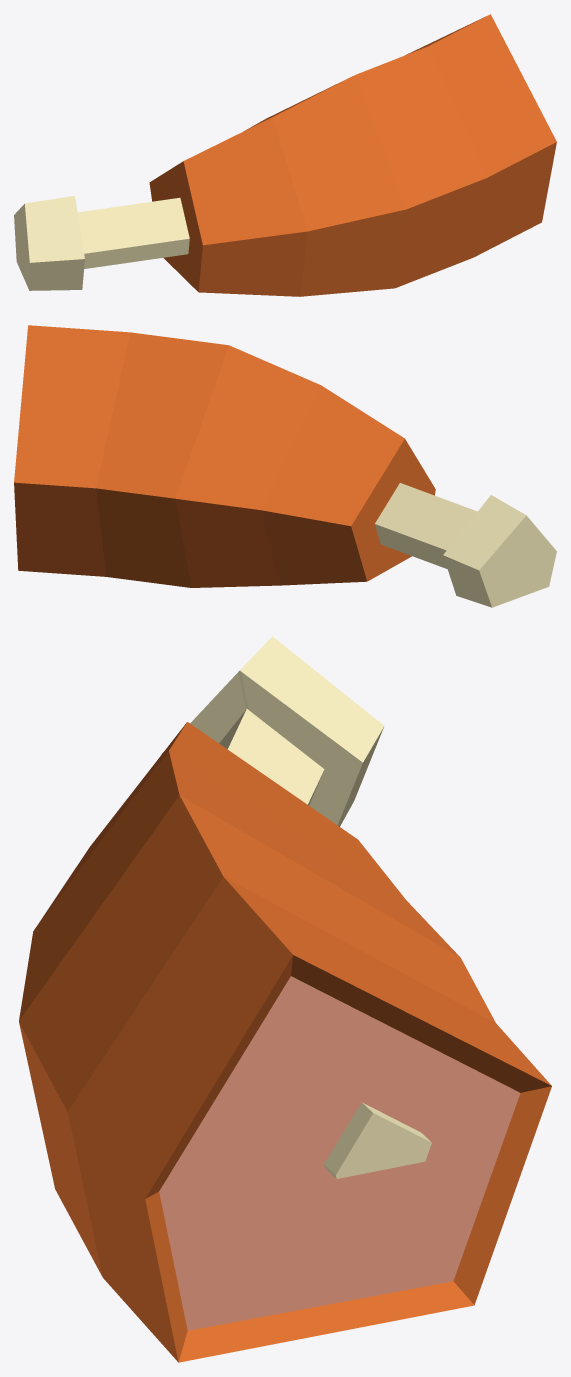
Rendered from ham.fbx.
The picture shows the model from 3 angles, top to bottom: view 1: azimuth 30°, elevation 25°; view 2: azimuth 150°, elevation 25°; view 3: azimuth 270°, elevation 25°; orthographic projection. The views are drawn at different scales.
Parts seen in each view (by area): view 1: Cylinder; view 2: Cylinder; view 3: Cylinder.
Boxes of the visible parts, x1,y1,x2,y2 form: Cylinder: (14,14,556,296); Cylinder: (14,325,556,607); Cylinder: (19,636,551,1362).
Bounding box in the file's own units: 0.4378 × 0.1574 × 0.1973.
Materials: 1 (1 with a texture image).
